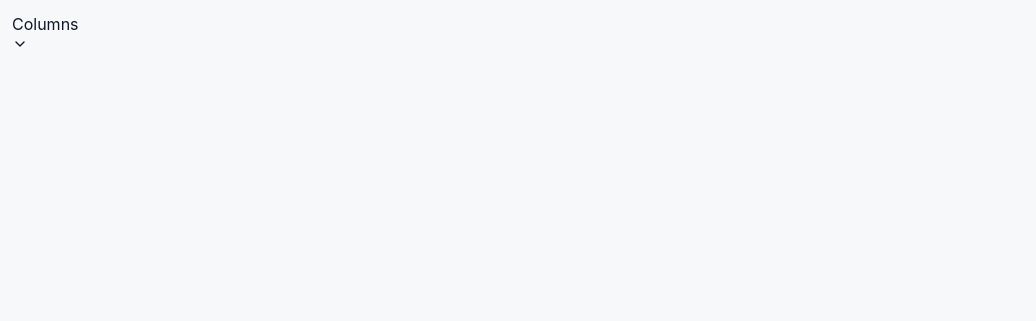
ColumnChooser › accessibility › updates aria-checked status on toggle
The width and height of the screenshot is (1036, 321).
Click the button "Columns" at point(45, 32), box x1=12 y1=12 x2=78 y2=52
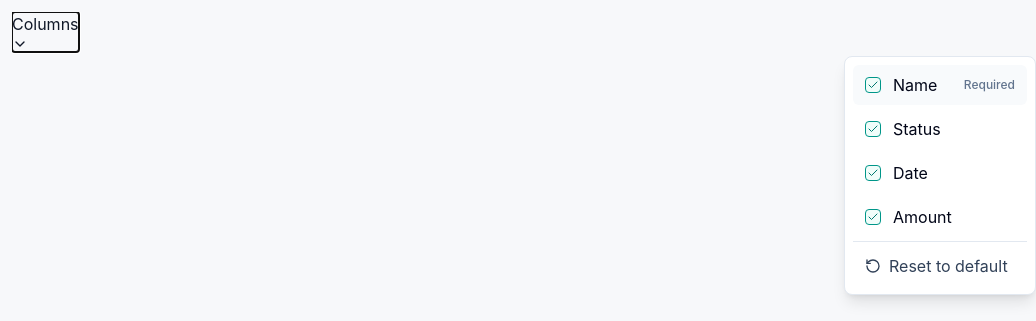
Click the menu item "Status" at point(940, 129), box x1=853 y1=109 x2=1027 y2=149
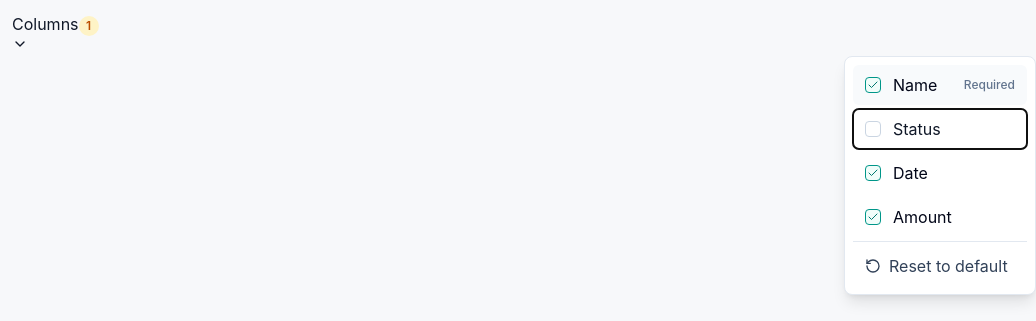
Check: the menu item "Status" is not checked, box x1=853 y1=109 x2=1027 y2=149
